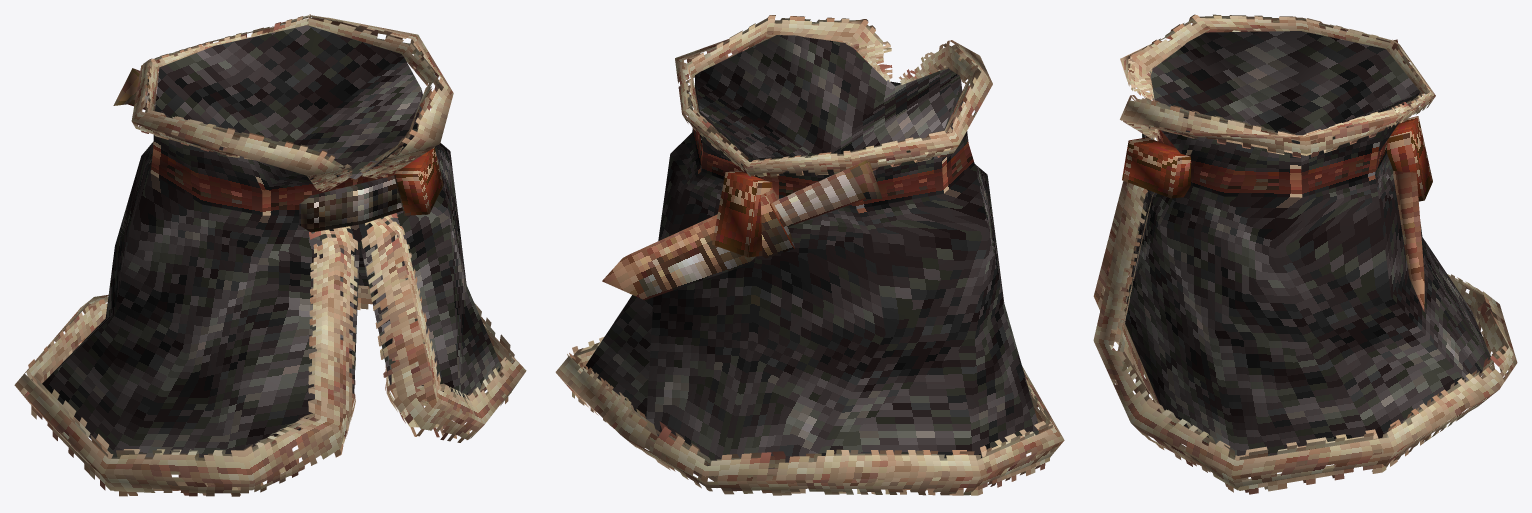
The picture shows the model from 3 angles, left to right: view 1: azimuth 30°, elevation 25°; view 2: azimuth 150°, elevation 25°; view 3: azimuth 270°, elevation 25°; orthographic projection. The views are drawn at different scales.
Visible parts, largest first — view 1: mesh00; view 2: mesh00; view 3: mesh00.
Boxes of the visible parts, <box> form: mesh00: <box>14,14,526,496</box>; mesh00: <box>555,15,1064,495</box>; mesh00: <box>1093,14,1517,494</box>.
Size of the model in its own units: 65.04 by 53.07 by 59.2.
